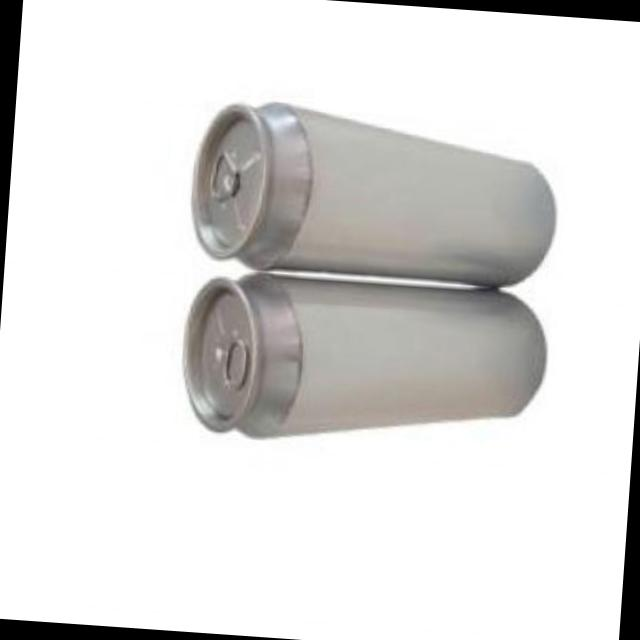metal: (188, 100, 550, 283), (180, 271, 541, 434)
